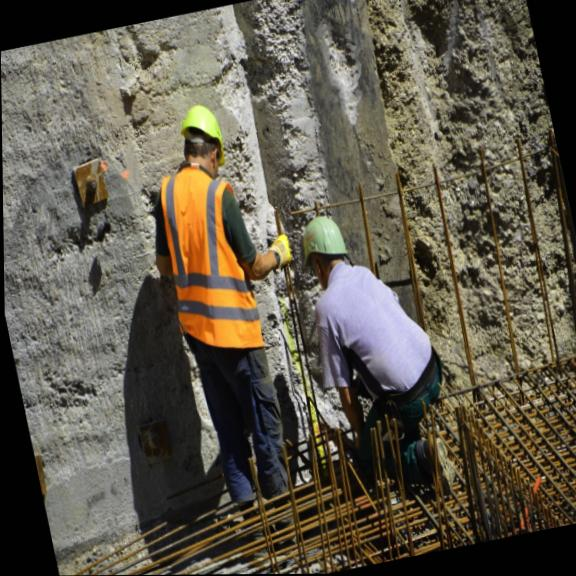no_safety_vest: (298, 244, 444, 401)
safety_vest: (144, 156, 273, 365)
